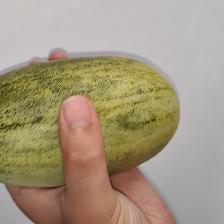gua: (8, 59, 175, 161)
